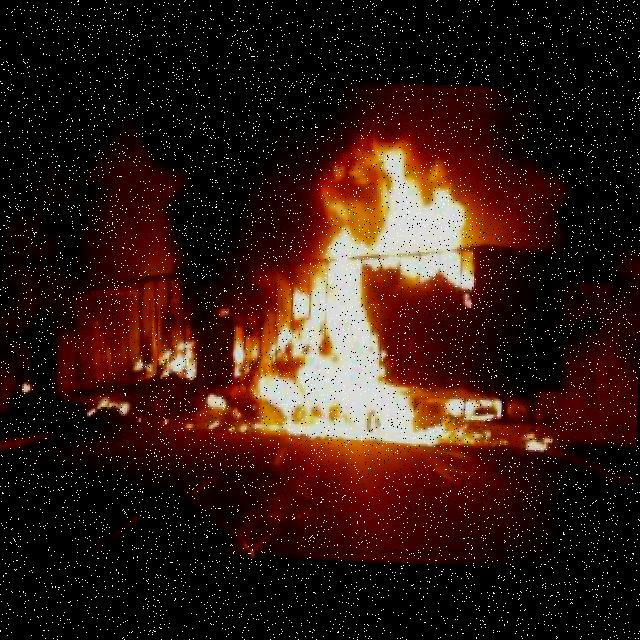Fire: (205, 129, 487, 438), (134, 340, 195, 382), (85, 394, 130, 420), (522, 433, 555, 450)
Smoke: (146, 74, 255, 345)
